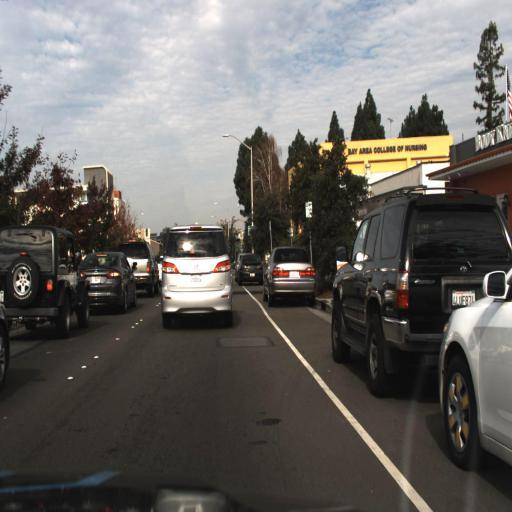car: (330, 186, 512, 388), (437, 257, 512, 482), (8, 210, 93, 352), (0, 224, 93, 334), (158, 222, 230, 322), (82, 251, 138, 310), (263, 244, 315, 306), (128, 240, 159, 296), (235, 252, 266, 288)
